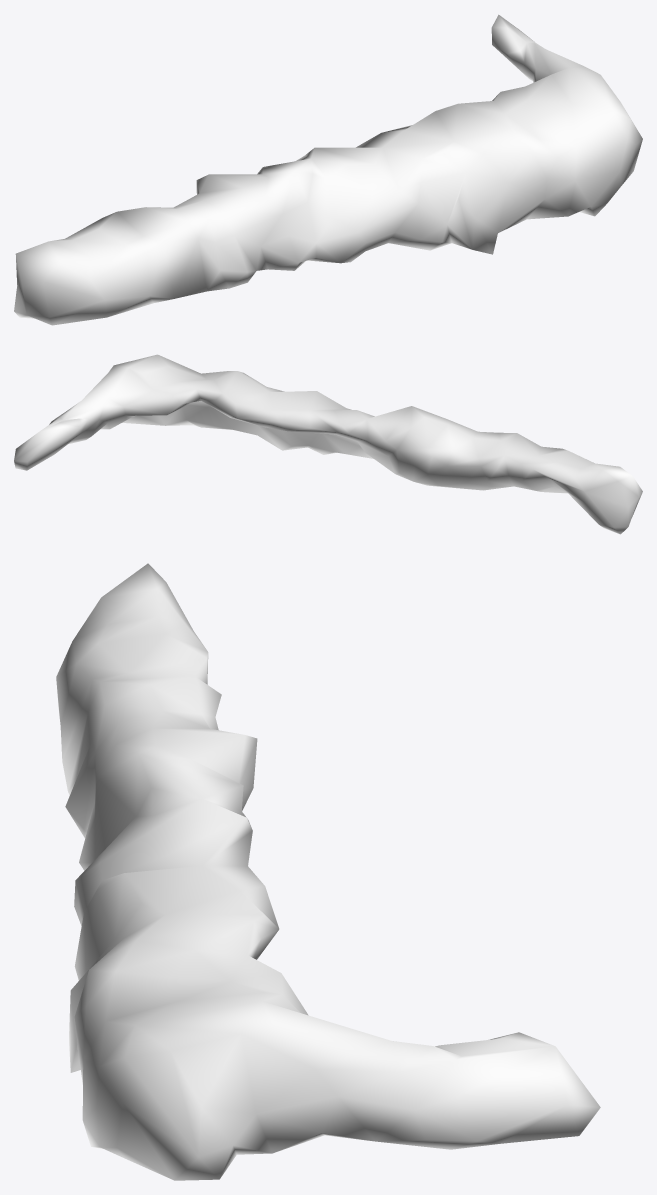
The model's file is SM_Snow2.fbx.
The picture shows the model from 3 angles, top to bottom: view 1: azimuth 30°, elevation 25°; view 2: azimuth 150°, elevation 25°; view 3: azimuth 270°, elevation 25°; orthographic projection. The views are drawn at different scales.
Visible parts, largest first — view 1: SM_Snow2; view 2: SM_Snow2; view 3: SM_Snow2.
Boxes of the visible parts, bbox=[...] form: SM_Snow2: bbox=[14, 14, 642, 325]; SM_Snow2: bbox=[14, 354, 642, 534]; SM_Snow2: bbox=[56, 563, 600, 1180].
Size of the model in its own units: 220 by 36.28 by 99.52.
